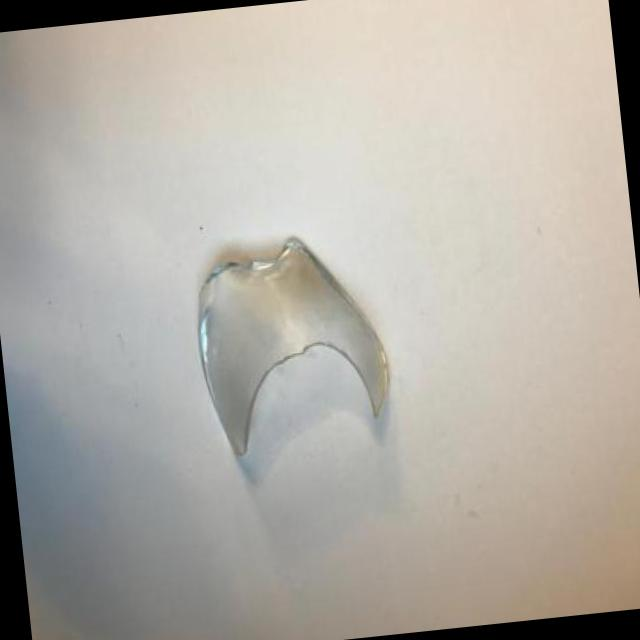PecahanKaca: (187, 228, 412, 574)
